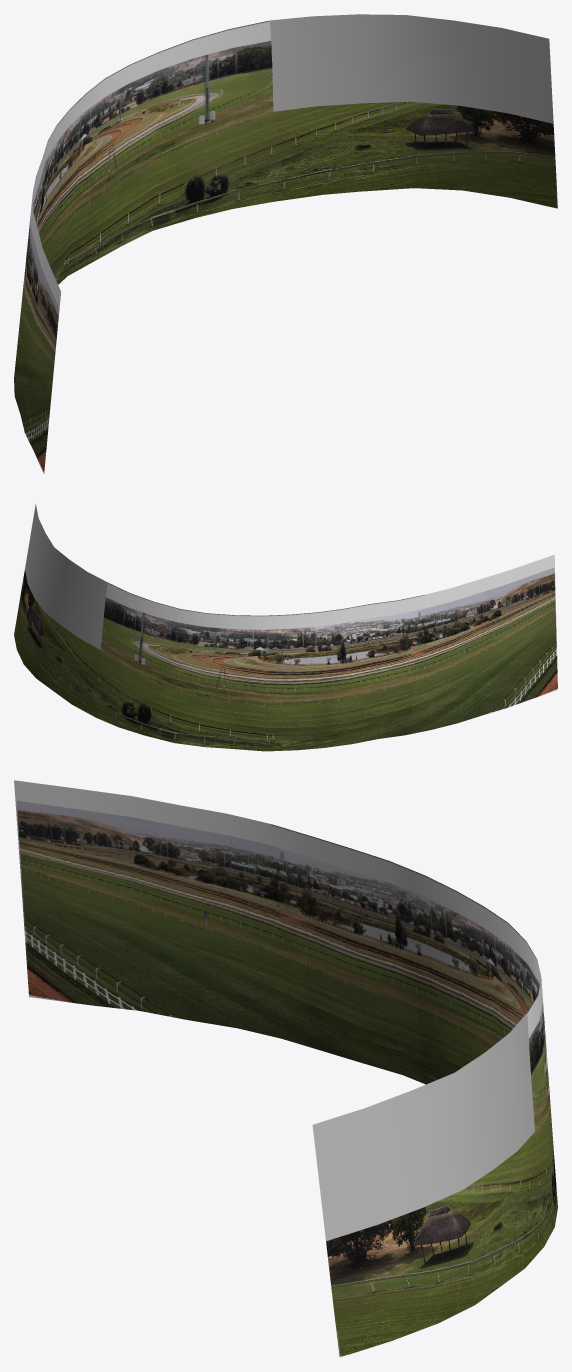
File: 1000mCornerStart.fbx
The picture shows the model from 3 angles, top to bottom: view 1: azimuth 30°, elevation 25°; view 2: azimuth 150°, elevation 25°; view 3: azimuth 270°, elevation 25°; orthographic projection. The views are drawn at different scales.
Visible parts, largest first — view 1: Tower1000:Tower1000; view 2: Tower1000:Tower1000; view 3: Tower1000:Tower1000.
Boxes of the visible parts, x1,y1,x2,y2 form: Tower1000:Tower1000: (14, 14, 557, 473); Tower1000:Tower1000: (14, 504, 557, 751); Tower1000:Tower1000: (14, 780, 557, 1357).
Size of the model in its own units: 75.52 by 22.45 by 45.82.
